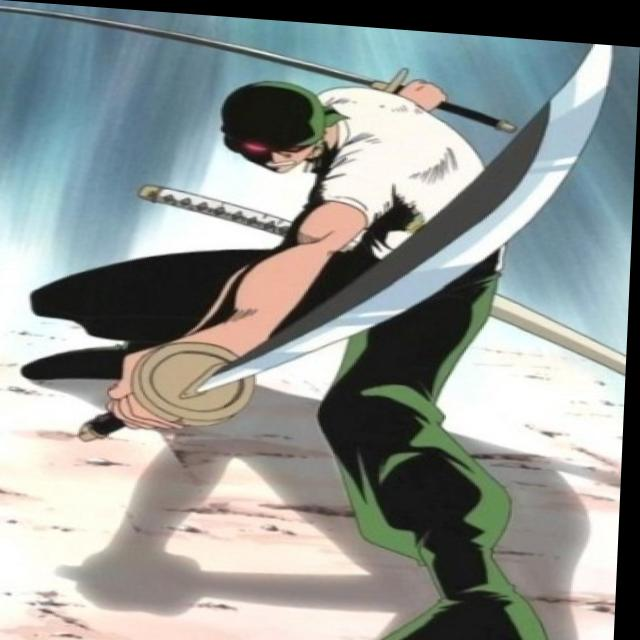Zoro: (209, 61, 346, 182)
